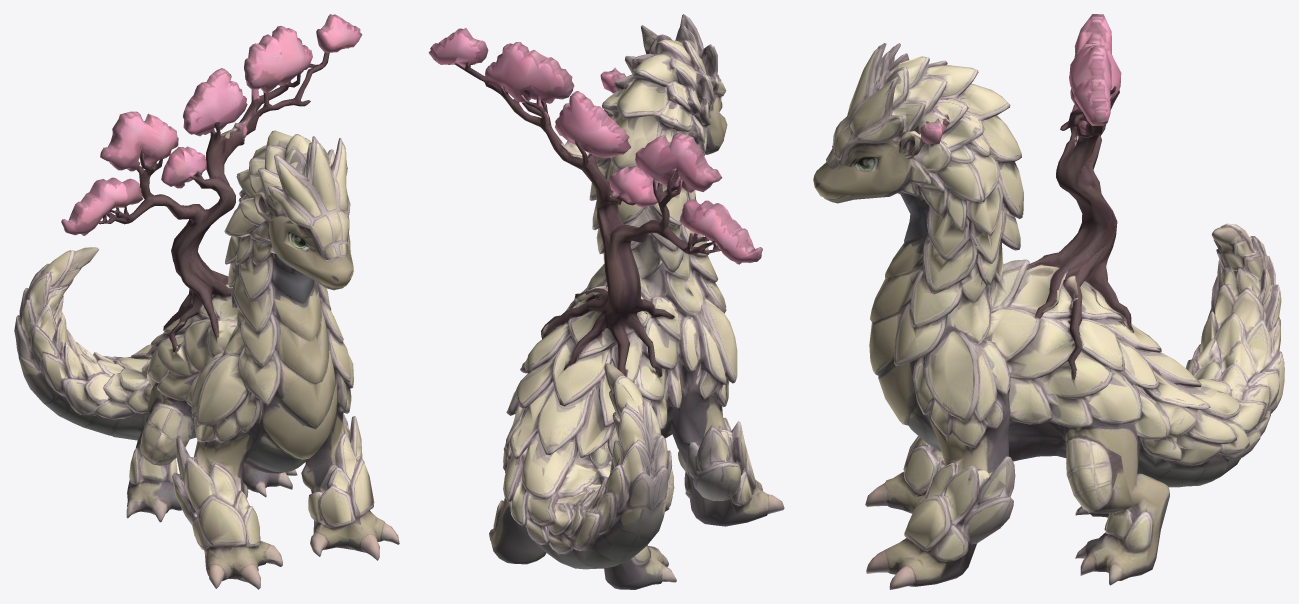
3 renders of one model, left to right at view 1: azimuth 30°, elevation 25°; view 2: azimuth 150°, elevation 25°; view 3: azimuth 270°, elevation 25°, orthographic. The views are drawn at different scales.
Parts seen in each view (by area): view 1: Mesh_0; view 2: Mesh_0; view 3: Mesh_0.
Part boxes in pixels (x1,y1,x2,y2): Mesh_0: [14, 14, 399, 589]; Mesh_0: [428, 14, 784, 589]; Mesh_0: [813, 14, 1284, 589].
Bounding box in the file's own units: 1.31 × 1.9 × 1.53.
1 material, 1 textured.
